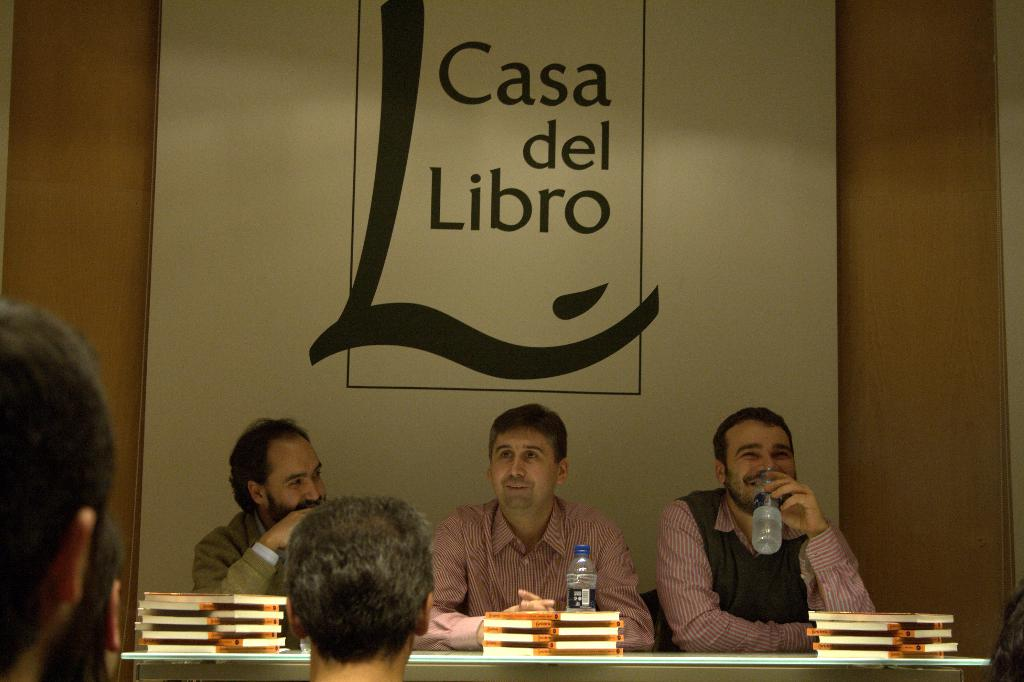Table: (119, 650, 988, 681)
